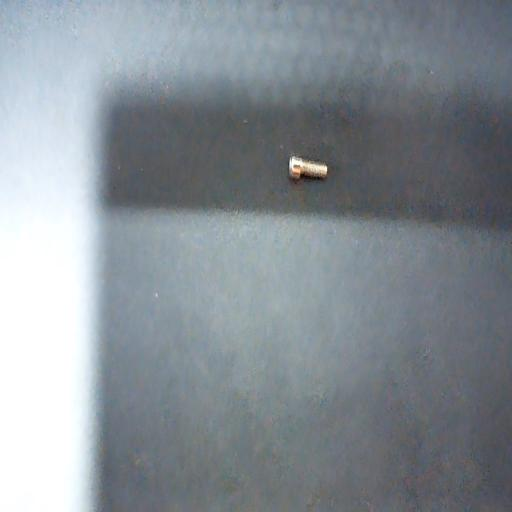screw: (288, 154, 328, 178)
